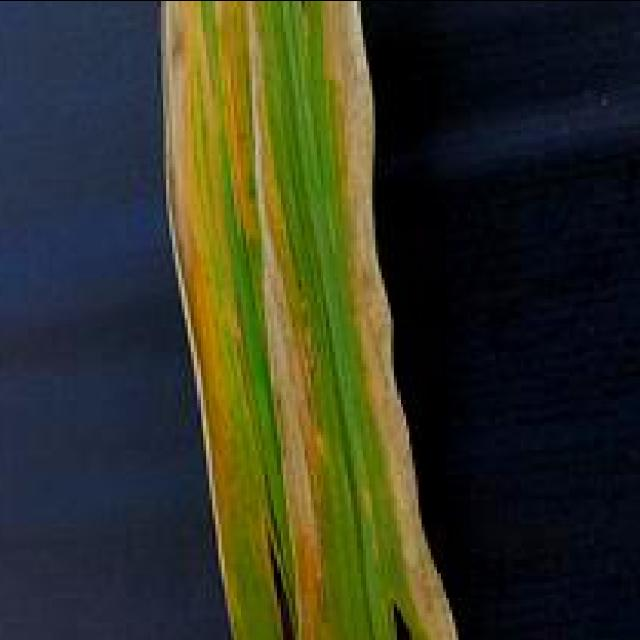Bacterial_Leaf_Blight: (203, 0, 363, 640)
